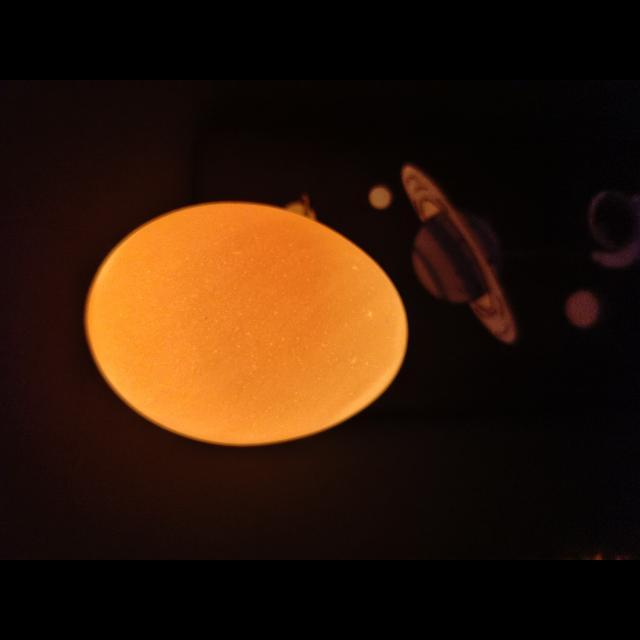AA - Premium: (85, 203, 408, 445)
